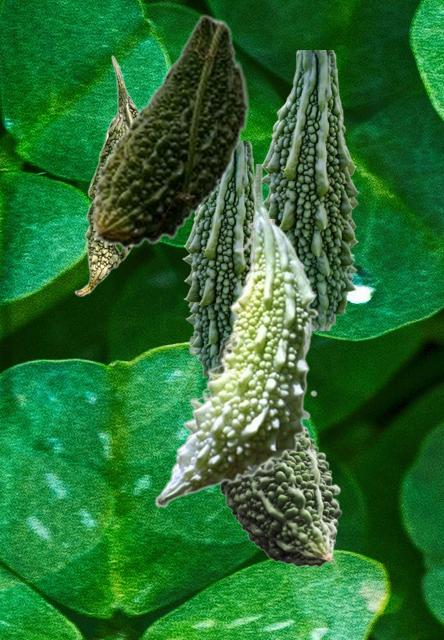ampalaya: (154, 164, 318, 507), (91, 14, 249, 248), (206, 335, 341, 566), (262, 50, 358, 329), (182, 141, 254, 378), (74, 54, 137, 295)
